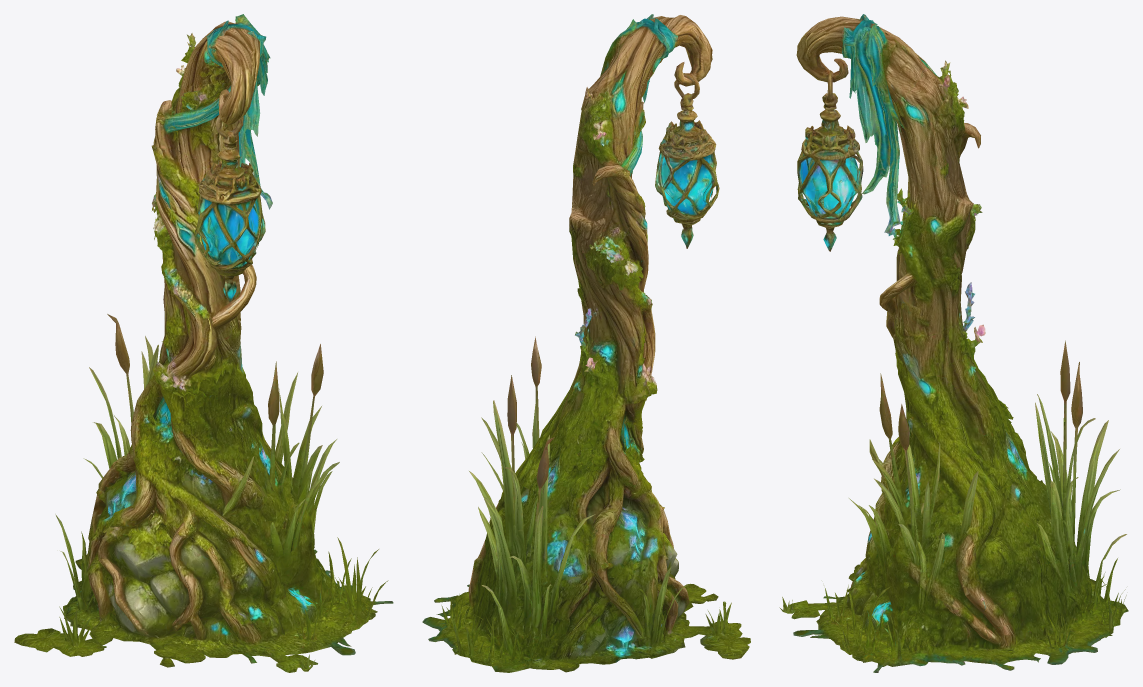
File: wetland-lantern-post.glb
3 views of the same model, side by side, from view 1: azimuth 30°, elevation 25°; view 2: azimuth 150°, elevation 25°; view 3: azimuth 270°, elevation 25° (orthographic). The views are drawn at different scales.
Size of the model in its own units: 1.03 by 1.9 by 1.04.
Materials: 1 (1 with a texture image).
